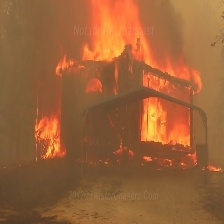fire: (31, 109, 66, 158)
